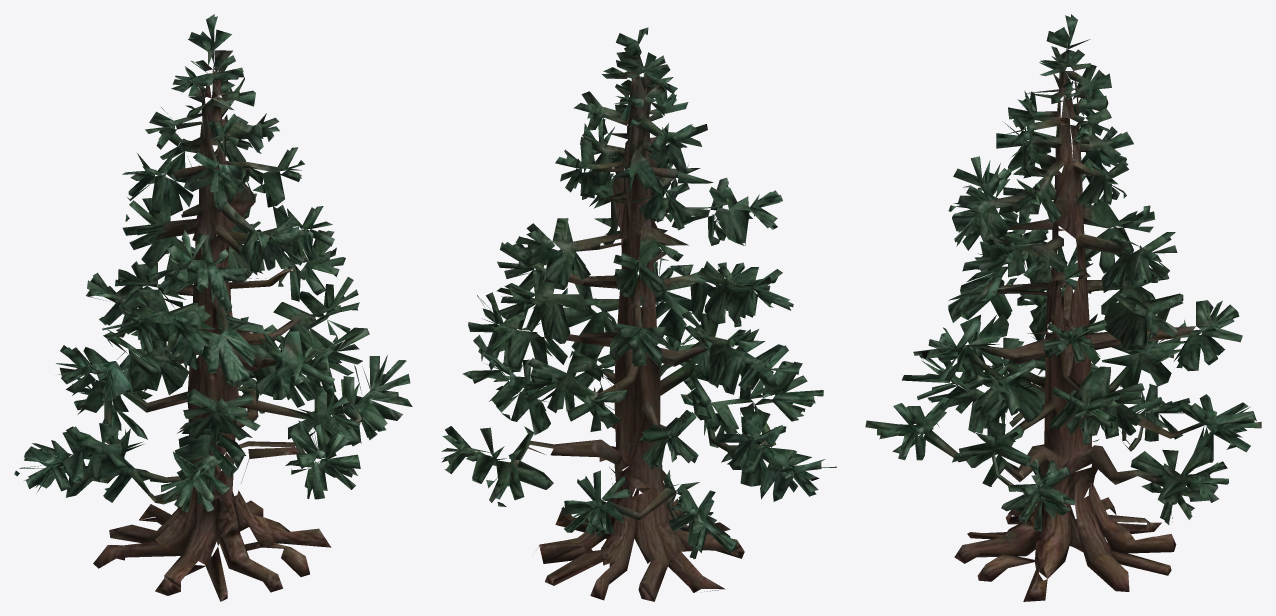
Rendered from tripo-conifera153.glb.
The picture shows the model from 3 angles, left to right: view 1: azimuth 30°, elevation 25°; view 2: azimuth 150°, elevation 25°; view 3: azimuth 270°, elevation 25°; orthographic projection.
Parts seen in each view (by area): view 1: tripo_node_503727a7-5fc5-4832-b367-66964798e19f; view 2: tripo_node_503727a7-5fc5-4832-b367-66964798e19f; view 3: tripo_node_503727a7-5fc5-4832-b367-66964798e19f.
Boxes of the visible parts, box(x1,y1,x2,y2) form: tripo_node_503727a7-5fc5-4832-b367-66964798e19f: box(14, 14, 412, 601); tripo_node_503727a7-5fc5-4832-b367-66964798e19f: box(441, 27, 836, 601); tripo_node_503727a7-5fc5-4832-b367-66964798e19f: box(865, 14, 1261, 601).
Size of the model in its own units: 0.7007 by 0.9756 by 0.6472.
Materials: 1 (1 with a texture image).
